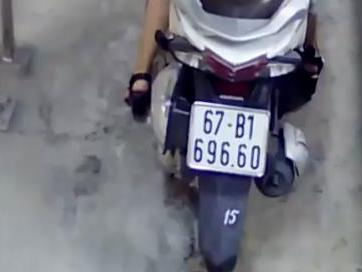num_plate: (189, 101, 270, 180)
